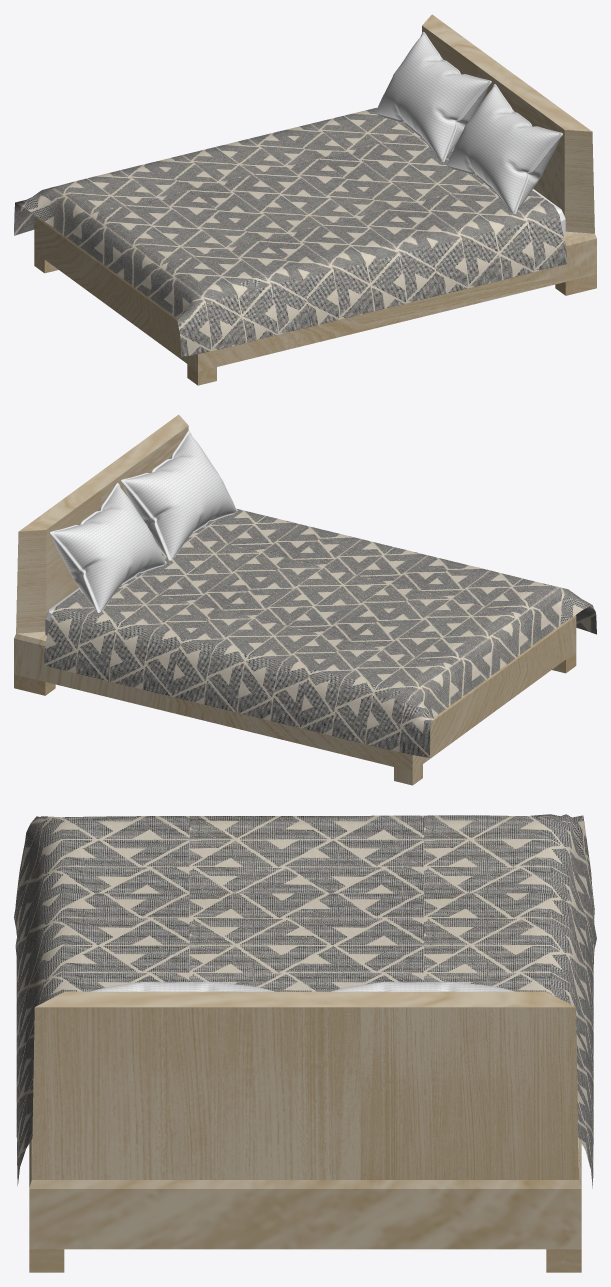
File: Bed1.fbx
3 renders of one model, top to bottom at view 1: azimuth 30°, elevation 25°; view 2: azimuth 150°, elevation 25°; view 3: azimuth 270°, elevation 25°, orthographic. The views are drawn at different scales.
Parts seen in each view (by area): view 1: Cube; view 2: Cube; view 3: Cube.
Part boxes in pixels (left/top/right/bottom): Cube: left=14, top=14, right=596, bottom=385; Cube: left=14, top=414, right=596, bottom=785; Cube: left=14, top=814, right=596, bottom=1272.
Bounding box in the file's own units: 369 × 132 × 264.
5 materials, 4 textured.
